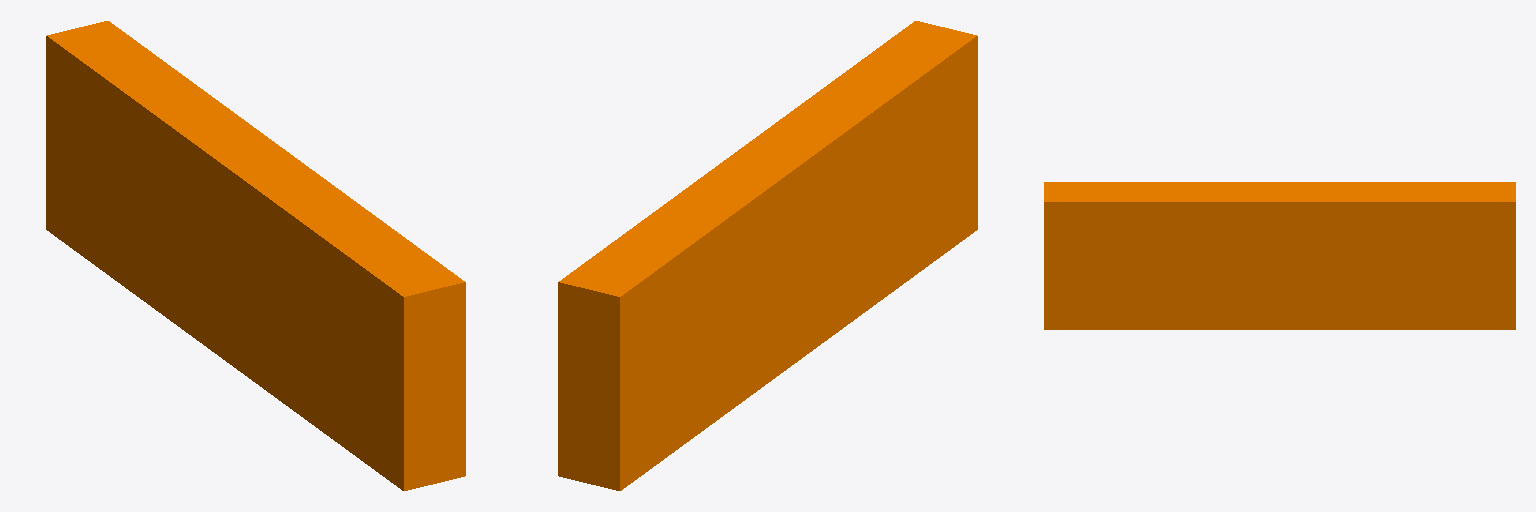
robot.urdf — wall_back_lower:
<?xml version="0.0" ?>
<robot name="wall_back_lower">
  <link name="base_link">
    <inertial>
      <origin rpy="0 0 0" xyz="0 0 0"/>
       <mass value=".1"/>
       <inertia ixx="1" ixy="0" ixz="0" iyy="1" iyz="0" izz="1"/>
    </inertial>
    
    <visual>
      <origin rpy="0 0 0" xyz="0 0 0"/>
      <geometry>
        <box size="0.1 1.0 0.3"/>
      </geometry>
      <material name="darkorange">
        <color rgba="1.0 0.549 0.0 1.0"/>
      </material>
    </visual>
  </link>
</robot>

--- Render facts (derived) ---
Views: 3 orthographic renders of the robot side by side, from view 1: azimuth 30°, elevation 25°; view 2: azimuth 150°, elevation 25°; view 3: azimuth 270°, elevation 25°.
Model wall_back_lower with 1 links and 0 joints (none), rooted at base_link, posed every joint at zero.
Links seen in each view (by area): view 1: base_link; view 2: base_link; view 3: base_link.
Link boxes in pixels (x1,y1,x2,y2): base_link: (46, 21, 465, 490); base_link: (558, 21, 977, 490); base_link: (1044, 182, 1515, 329).
Size in the robot's own frame: 0.1 by 1 by 0.3 metres.
Geometry: primitives only (box / cylinder / sphere), no mesh files.